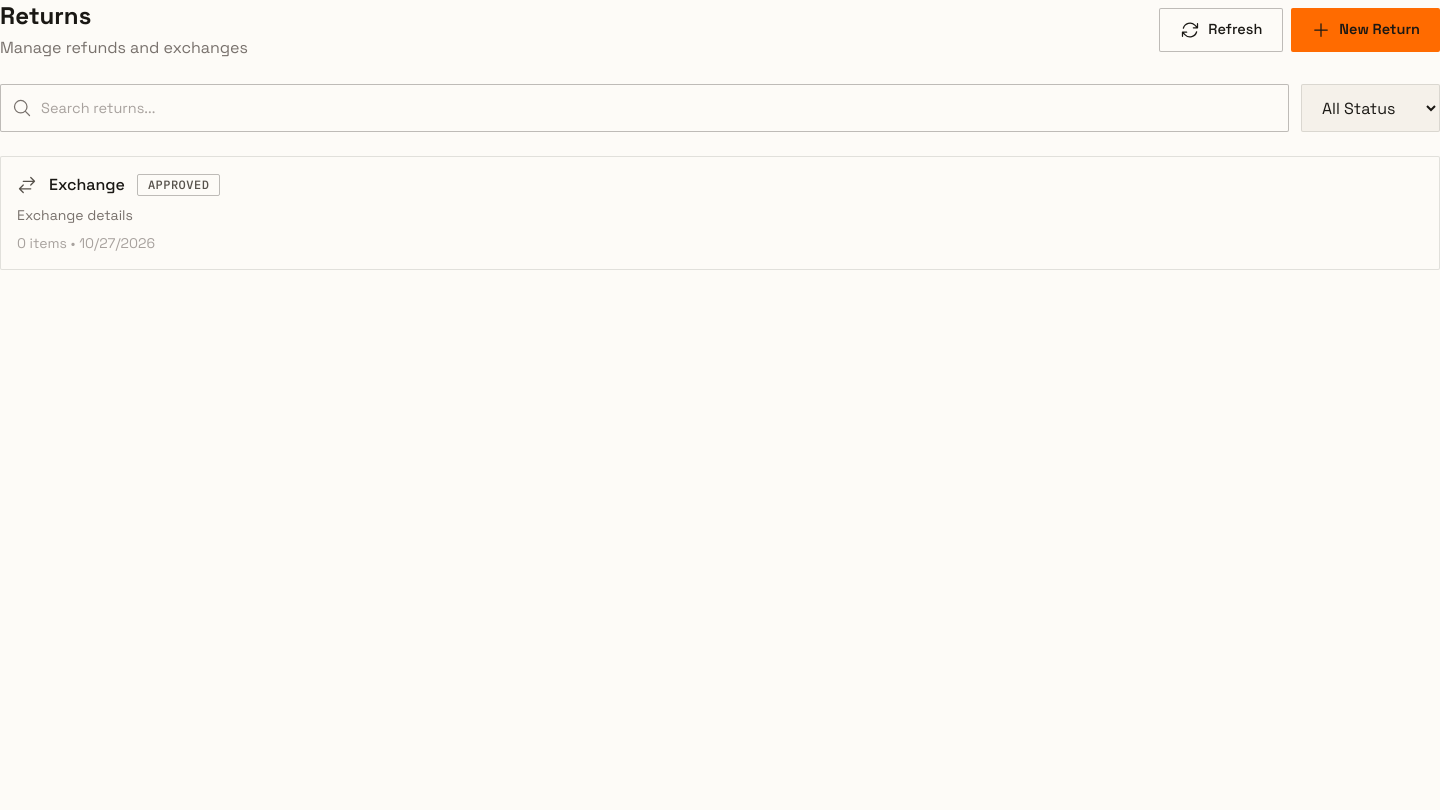
exchange replacement selection › shows replacement lines and charged values in exchange details
Click the text "Exchange details": (75, 215) [17,206,133,224]
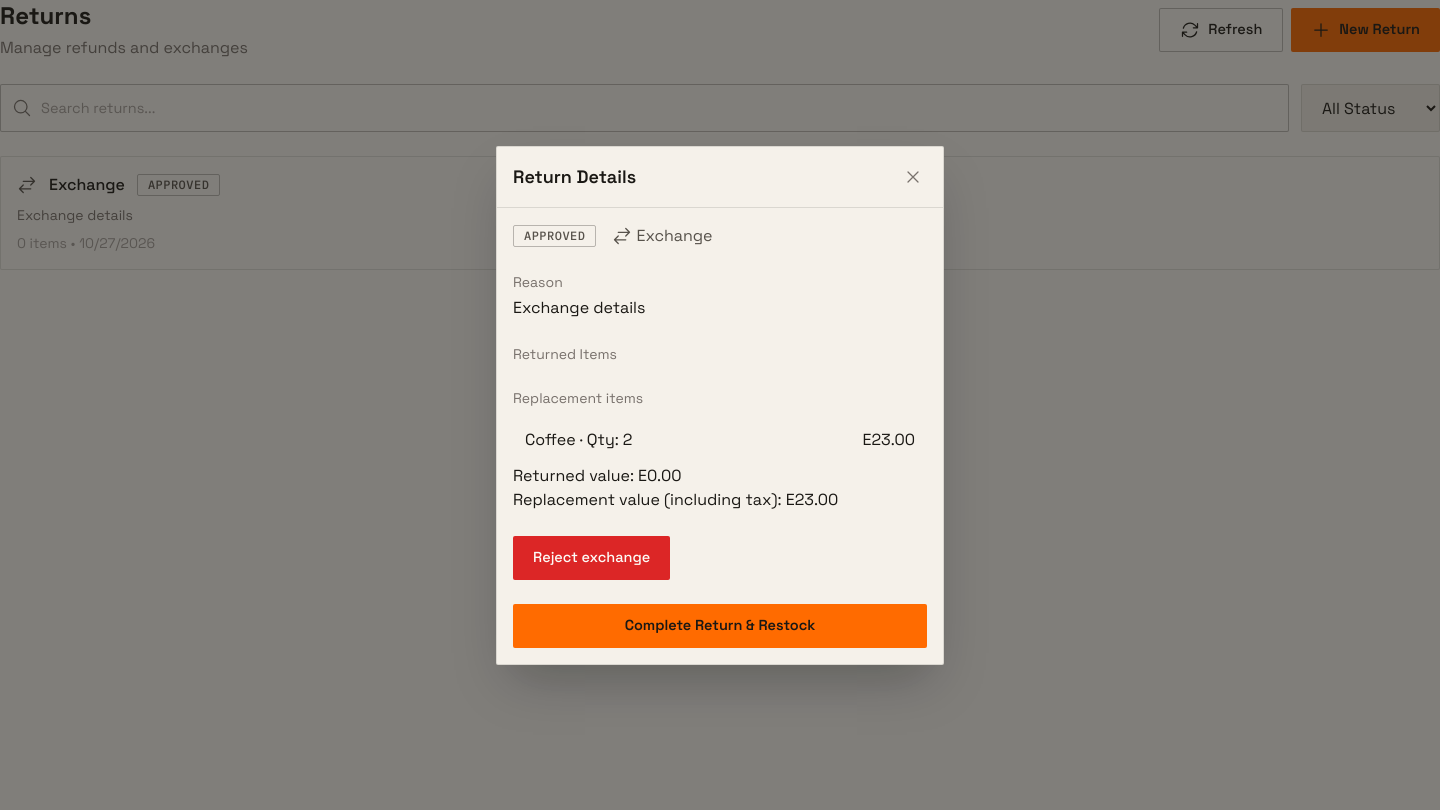
Now the text "Coffee · Qty: 2" is shown, box [525,428,632,452]
Now the text "Replacement value (including tax): E23.00" is shown, box [513,488,838,510]
